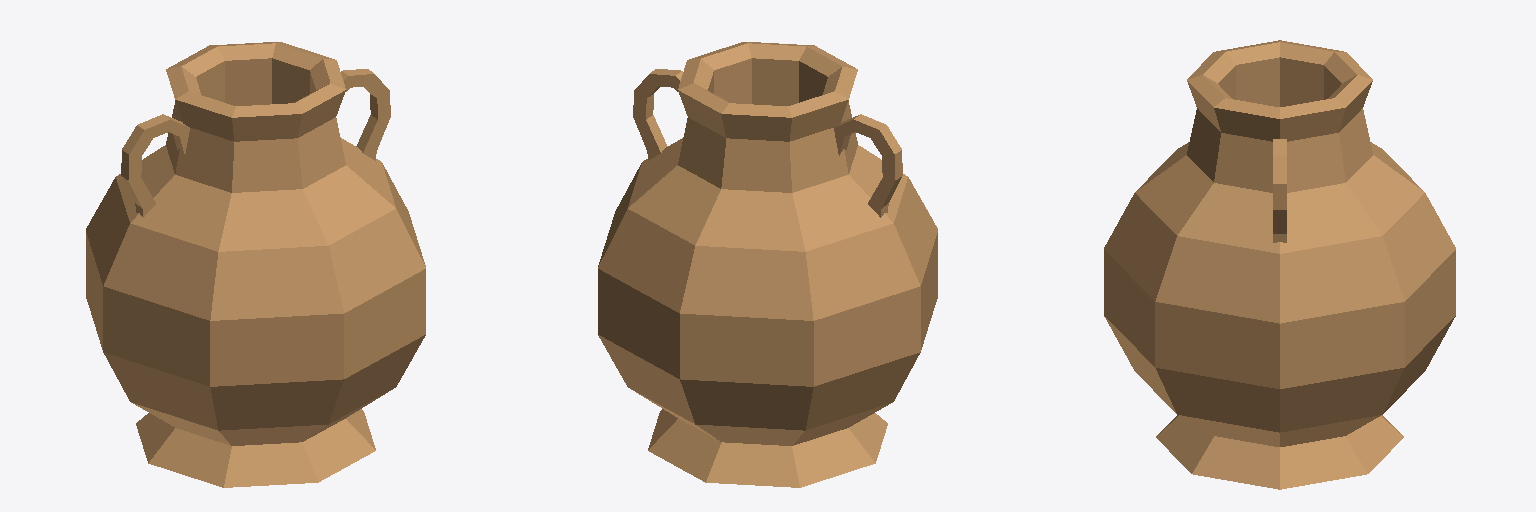
Rendered from Prop_Vase_3.obj.
3 views of the same model, side by side, from view 1: azimuth 30°, elevation 25°; view 2: azimuth 150°, elevation 25°; view 3: azimuth 270°, elevation 25° (orthographic).
Visible parts, largest first — view 1: object1; view 2: object1; view 3: object1.
Boxes of the visible parts, x1=… form: object1: x1=86, y1=42, x2=425, y2=487; object1: x1=598, y1=42, x2=937, y2=487; object1: x1=1104, y1=40, x2=1455, y2=489.
Bounding box in the file's own units: 0.425 × 0.4815 × 0.425.